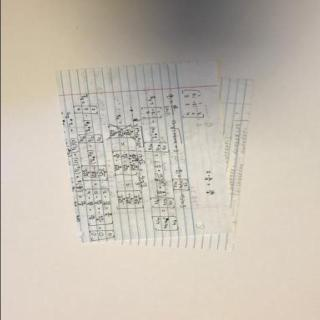Anorganik: (51, 59, 262, 255)
